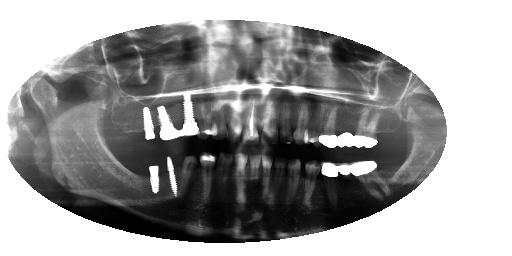fractura: (350, 161, 392, 200), (357, 106, 380, 152), (319, 105, 337, 151), (321, 160, 339, 204), (336, 113, 356, 150), (339, 162, 352, 193)
otra: (180, 94, 199, 137), (157, 105, 179, 141), (164, 155, 180, 197), (141, 105, 158, 140), (147, 164, 162, 195)
